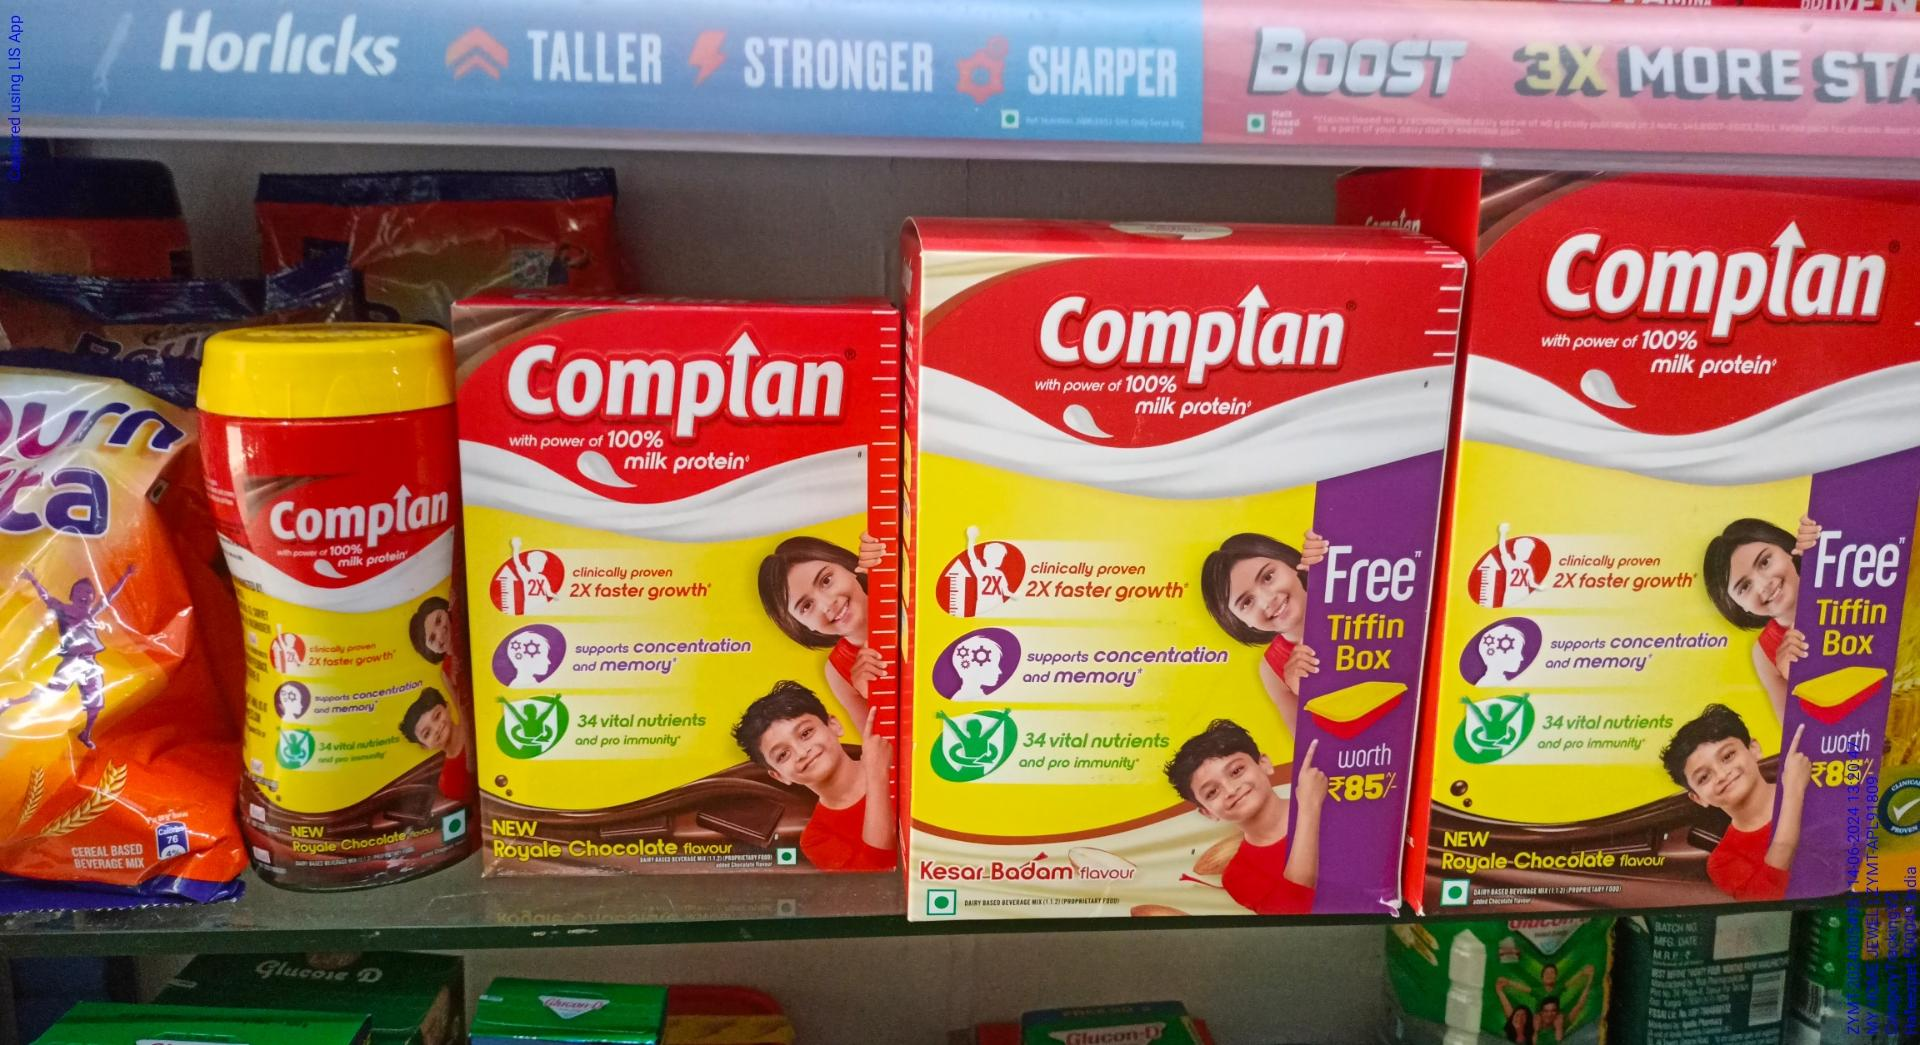COMPLAN_CHOCOLATE_500_GMS_JAR: (214, 336, 449, 901)
COMPLAN_CHOCOLATE_500_GMS_PACK: (1461, 176, 1920, 905), (468, 309, 888, 875)
COMPLAN_KESAR_BADAM_500_GMS_PACK: (916, 261, 1443, 912)
